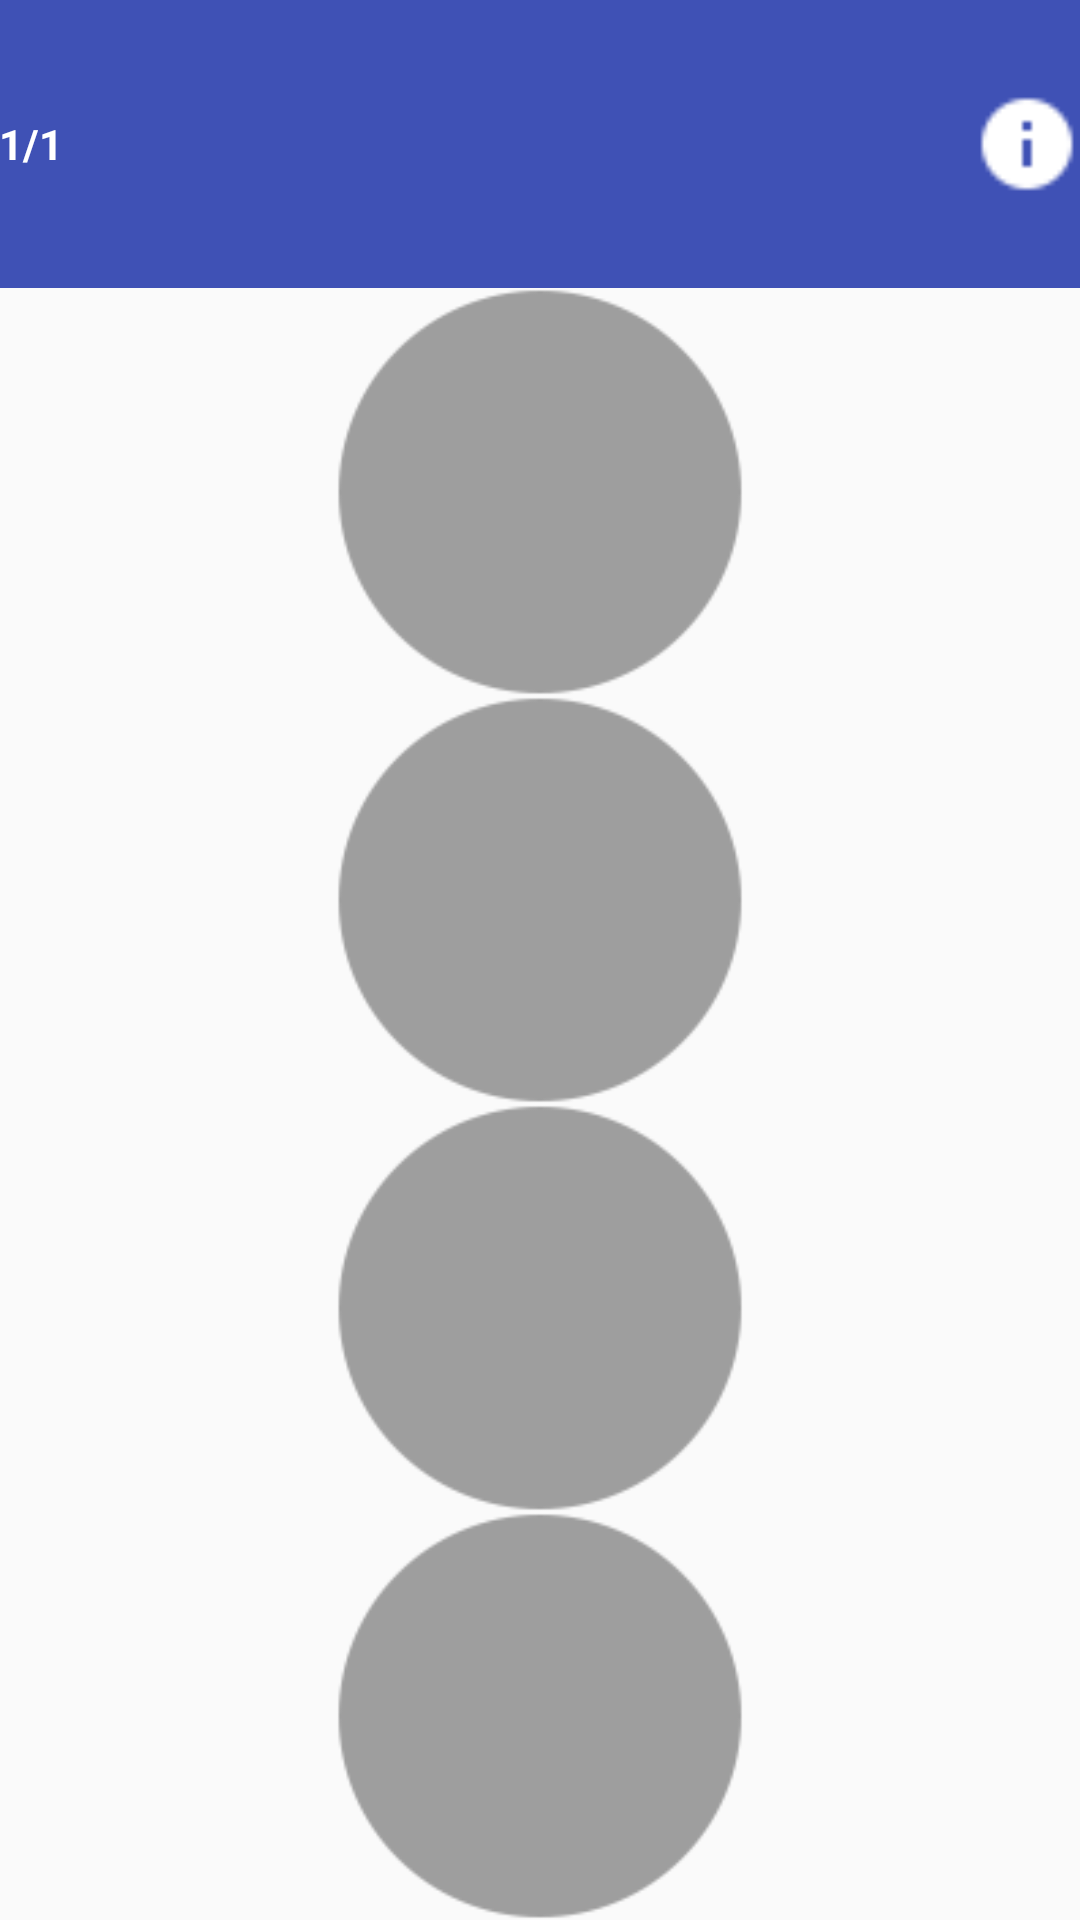

Named icons in this screenshot (1080px x 1920px) and their bounding boxes, rect(x1, y1, x2, y2):
info: rect(980, 97, 1074, 191)
